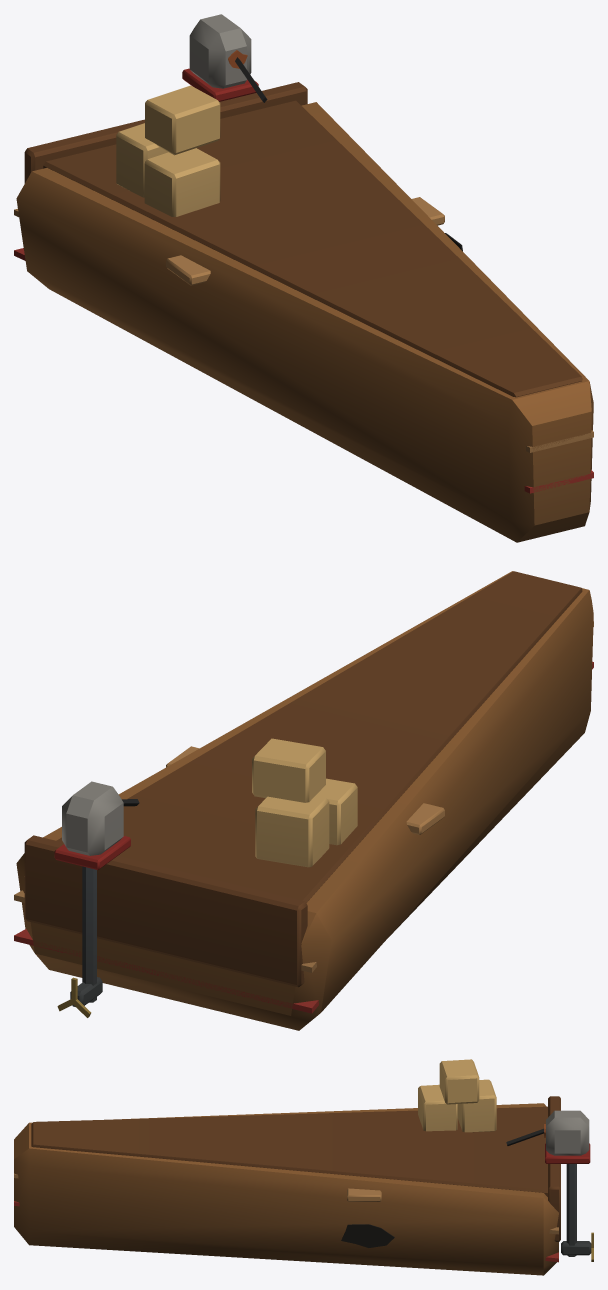
The model's file is 187_barque_moteur.fbx.
3 views of the same model, one above another, from view 1: azimuth 30°, elevation 25°; view 2: azimuth 150°, elevation 25°; view 3: azimuth 270°, elevation 25° (orthographic). The views are drawn at different scales.
Parts seen in each view (by area): view 1: Coque, Moteur; view 2: Coque, Moteur; view 3: Coque, Moteur.
Part boxes in pixels (box(x1,y1,x2,y2)): Coque: box(14, 82, 593, 542); Moteur: box(182, 14, 267, 102); Coque: box(14, 571, 593, 1030); Moteur: box(54, 781, 139, 1017); Coque: box(14, 1059, 560, 1275); Moteur: box(506, 1110, 593, 1261).
Size of the model in its own units: 1.68 by 1.12 by 3.92.
Materials: 1 (1 with a texture image).
